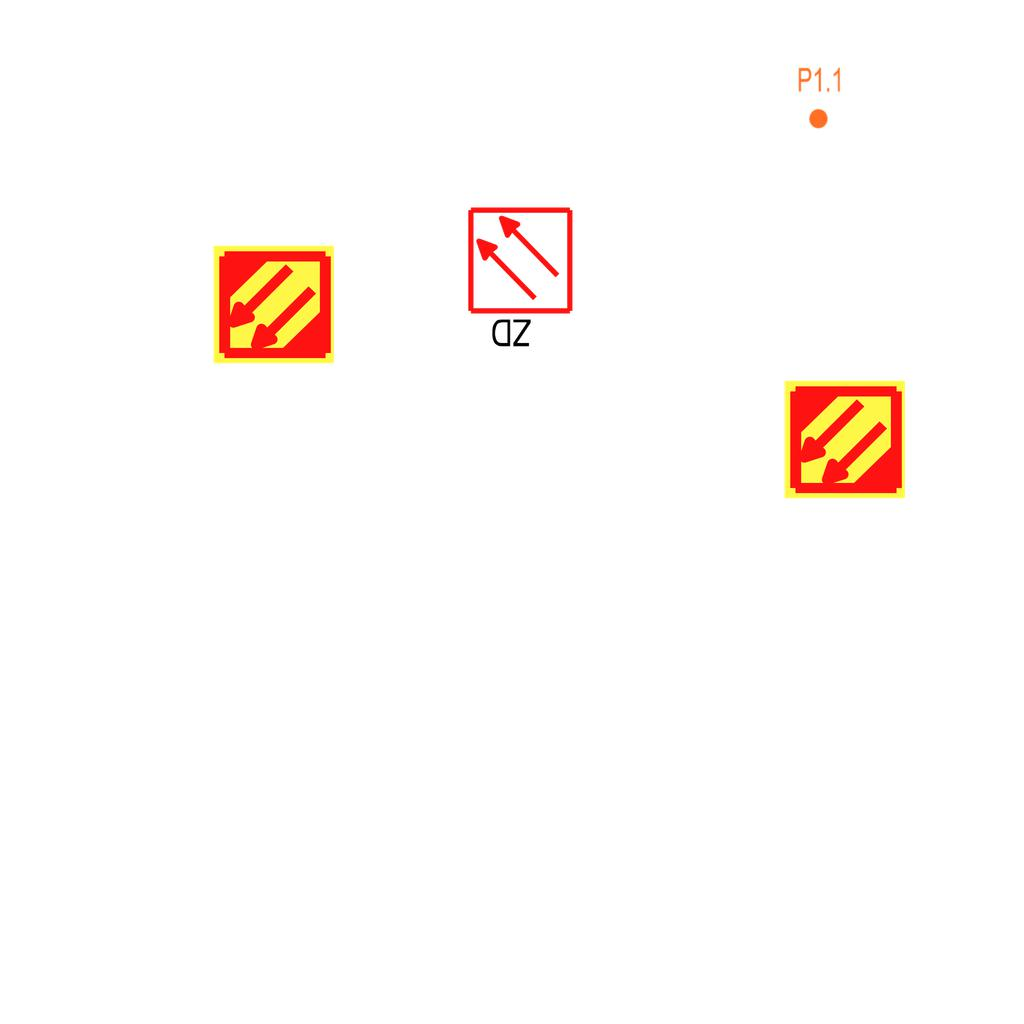ASR_Ansaugrauchmelder: (782, 377, 907, 502), (211, 242, 336, 367)
Downlight_LED_Einbauleuchten_Flur: (797, 66, 843, 130)
ZD_Melder_in_Zwischendecke_mit_Revisionsoeffnung_mind_40_x_40_cm: (465, 205, 579, 354)
